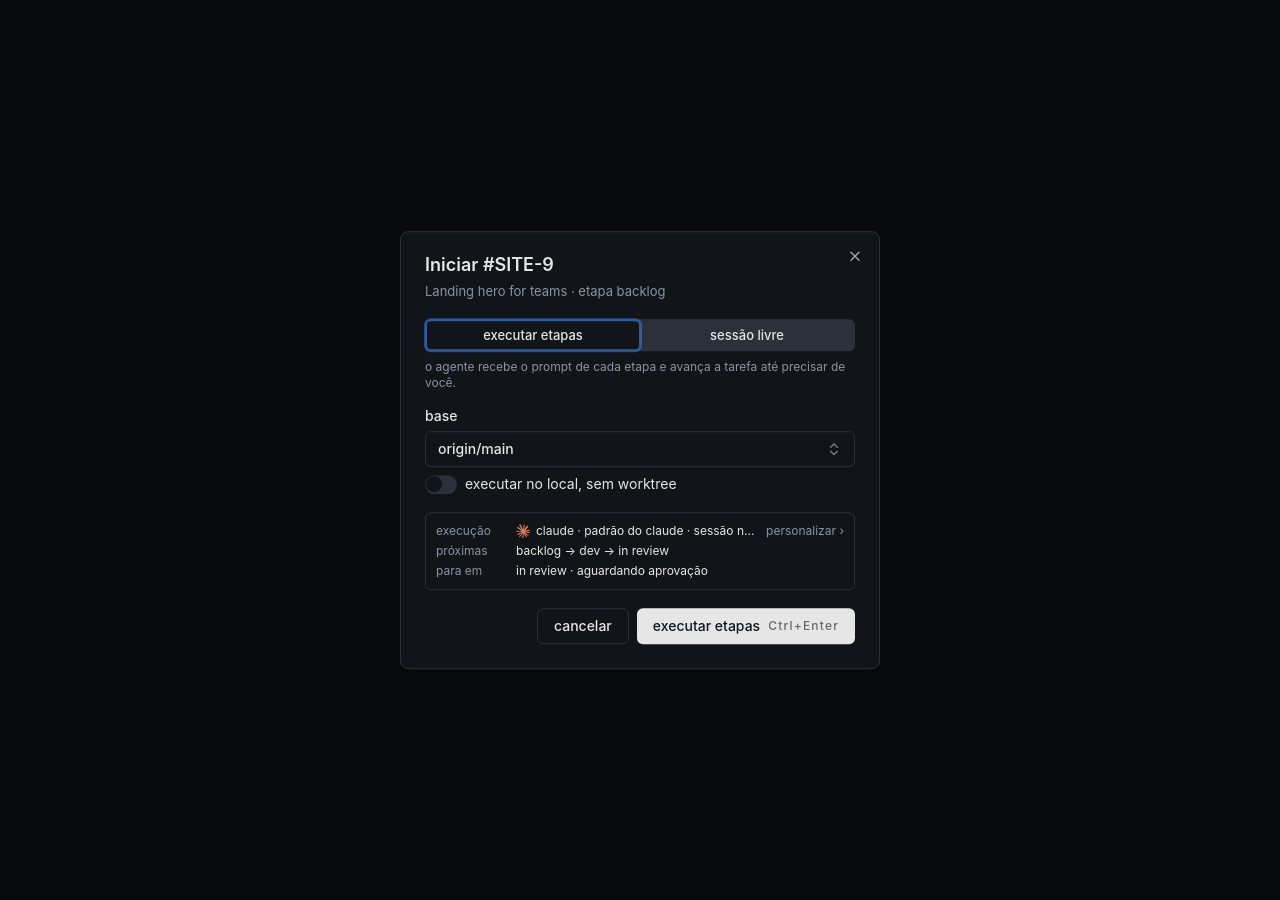
the base list shows no remote branch until a search surfaces it (#131)
Click the dropdown labelled "origin/main": (476, 449) left=425, top=431, right=855, bottom=467
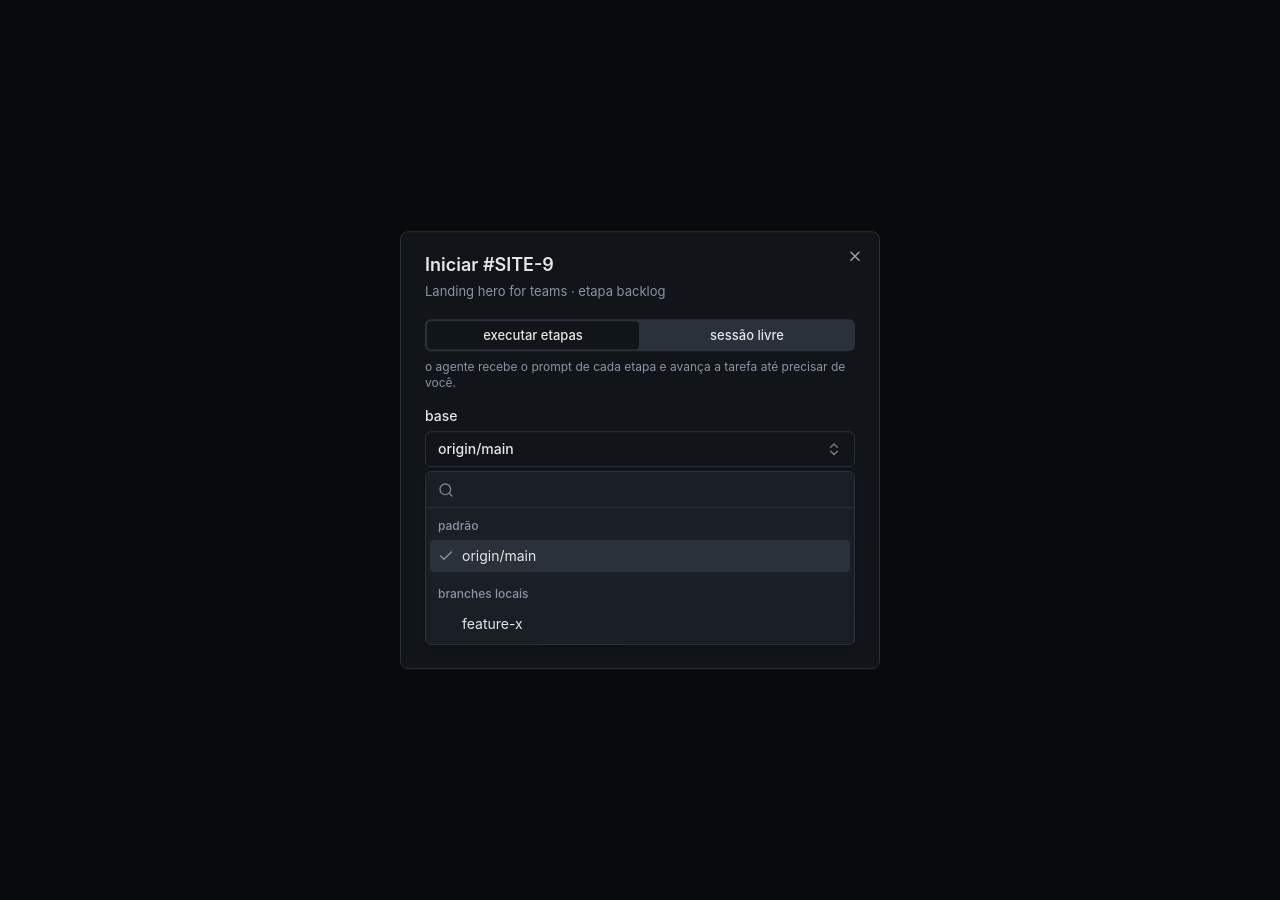
Expected: the option "origin/feature-y" is not shown
Result: the option "feature-x" is shown at left=462, top=615, right=523, bottom=632
Type keys "feature-y"
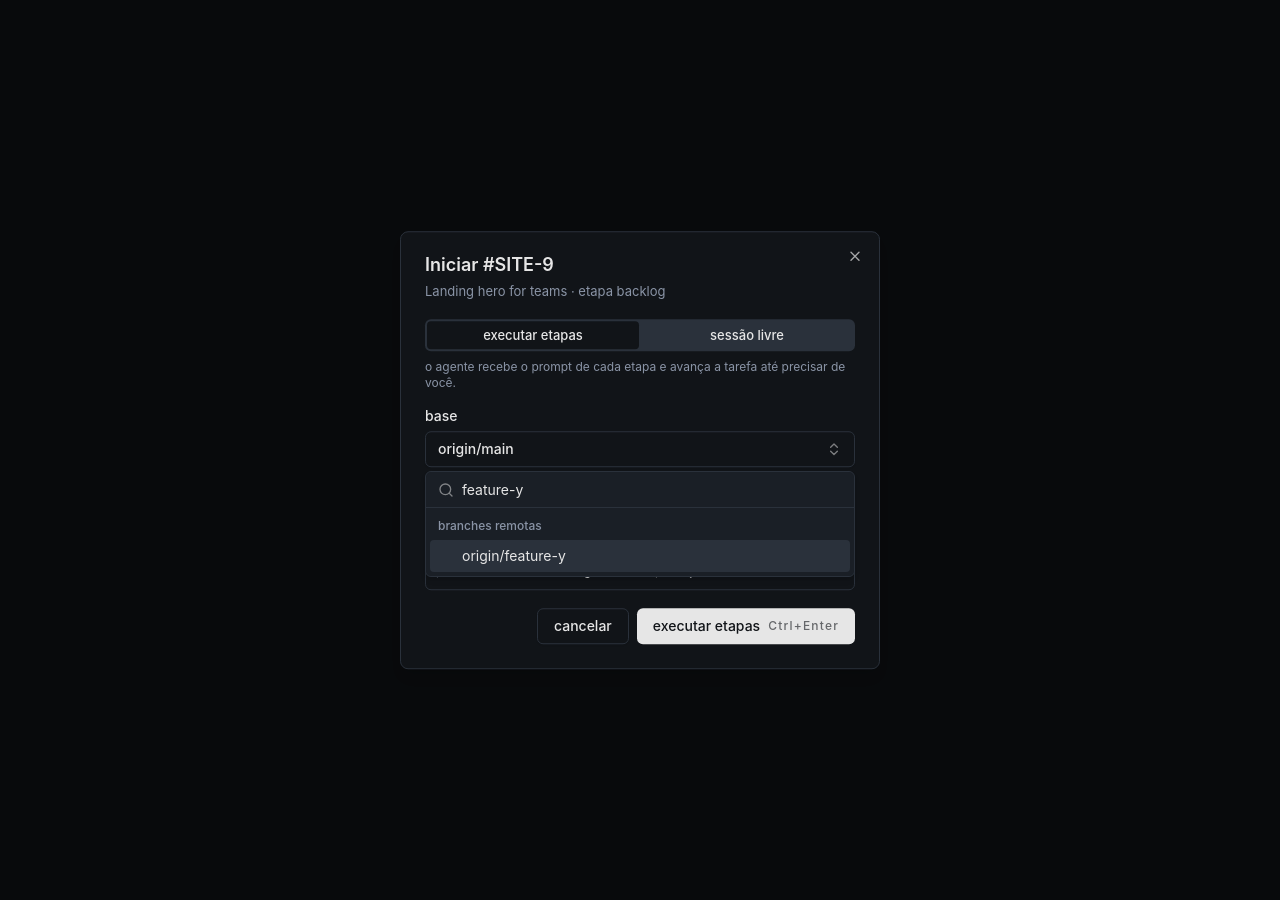
Result: the option "origin/feature-y" is shown at left=430, top=540, right=850, bottom=572
